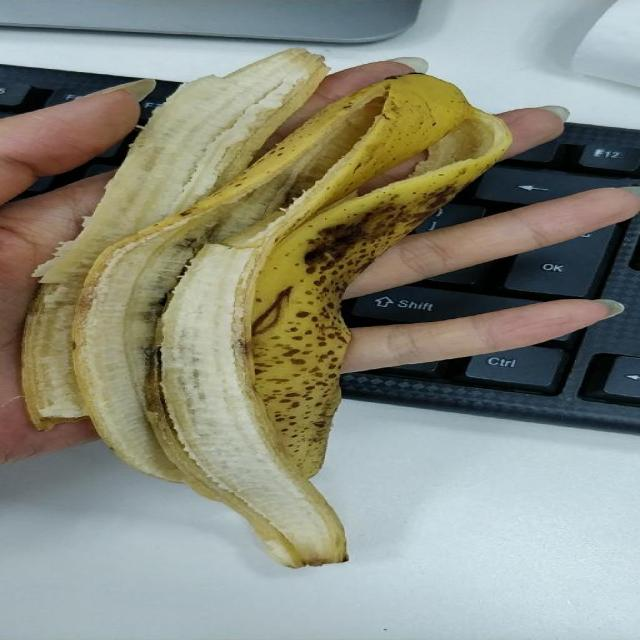-Kitchen waste - fruit-: (26, 51, 515, 568)
